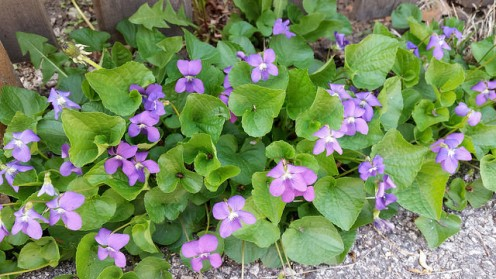violet: (106, 142, 162, 190), (431, 127, 475, 180), (265, 160, 316, 203), (91, 224, 137, 270), (177, 233, 226, 274), (210, 193, 258, 233), (127, 76, 168, 115), (337, 96, 376, 137), (173, 58, 210, 96), (11, 202, 46, 241), (245, 48, 280, 87), (126, 109, 164, 144), (373, 174, 403, 218), (46, 193, 84, 226), (355, 149, 389, 184), (45, 84, 81, 113), (4, 132, 40, 160), (425, 30, 454, 62), (312, 127, 341, 156), (467, 81, 496, 105)
